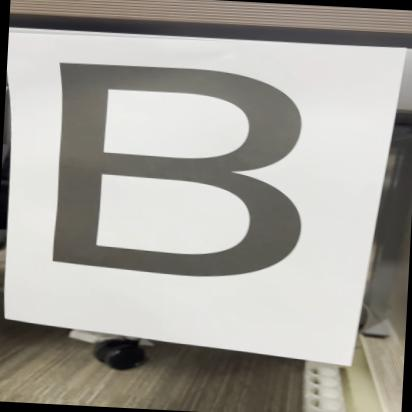seat: (39, 49, 336, 298)
